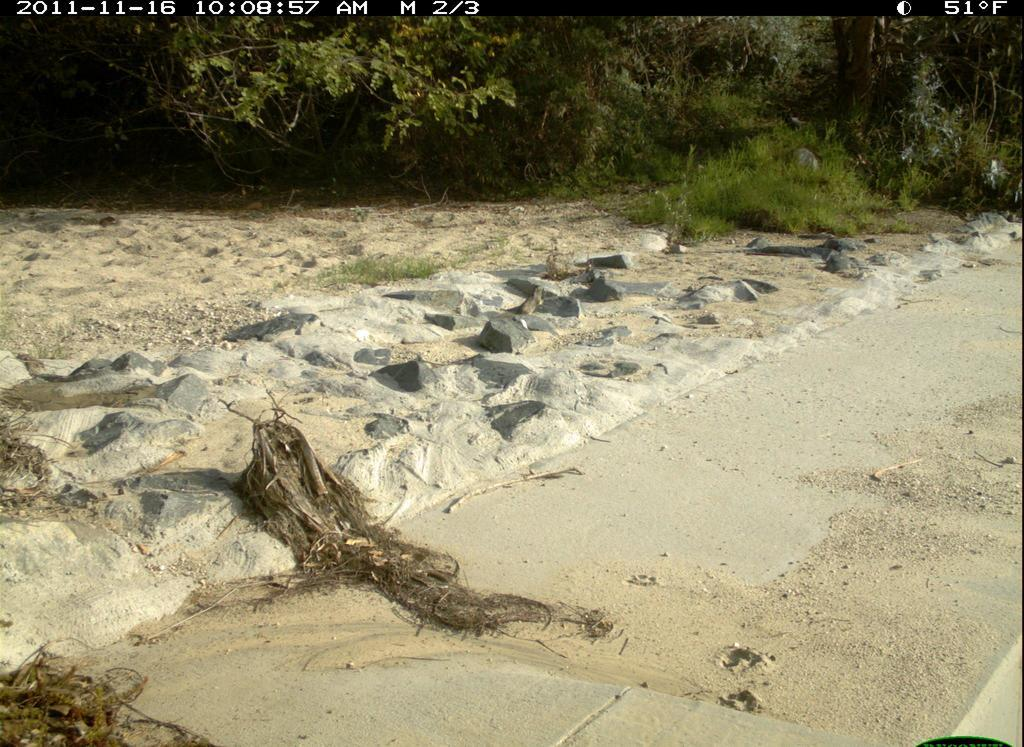squirrel: (501, 281, 557, 326)
